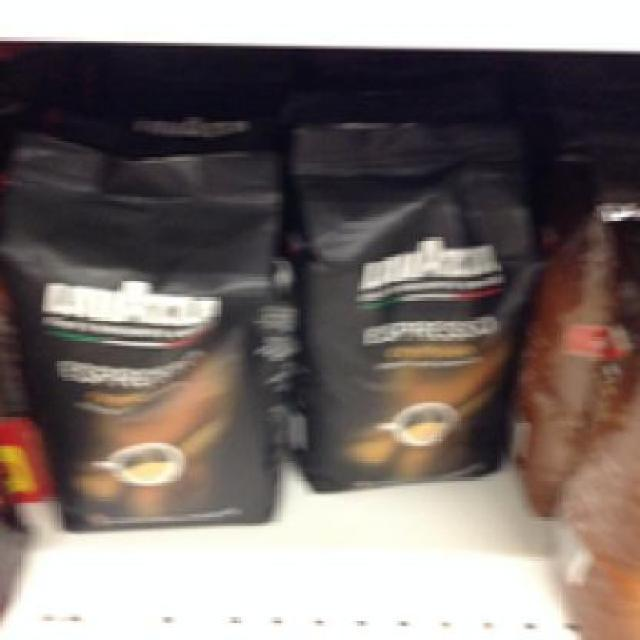Coffee: (0, 122, 283, 528), (277, 89, 532, 492)
